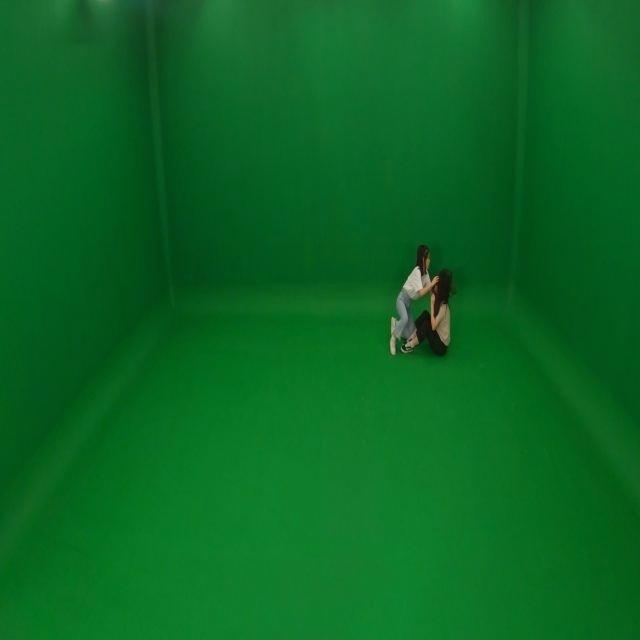fight: (384, 243, 455, 362)
